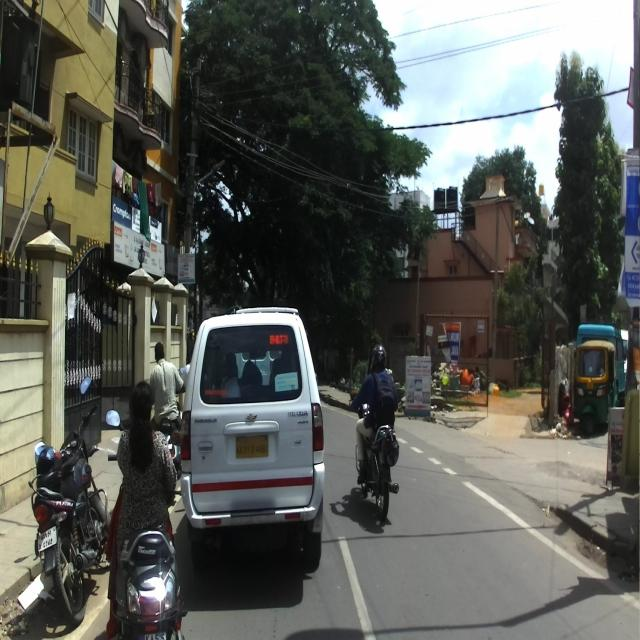autorickshaw: (574, 340, 618, 429)
car: (181, 302, 326, 567)
motorcycle: (27, 376, 112, 628), (348, 389, 399, 522)
scooter: (105, 408, 188, 638)
